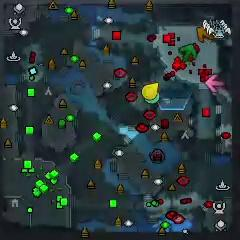p2: (144, 90, 160, 105)
p4: (142, 83, 159, 98)
x1: (205, 75, 225, 92)
x4: (180, 44, 197, 62)
x5: (196, 25, 214, 44)
